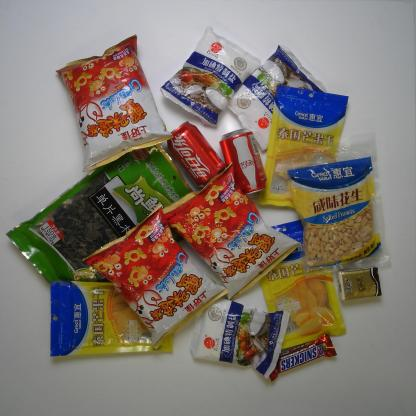Chocolate: (269, 334, 339, 384)
Dried Food: (3, 144, 193, 284)
Dried Fruit: (280, 126, 394, 279), (257, 84, 351, 209), (262, 218, 349, 348), (46, 276, 176, 360)
Drink: (166, 120, 226, 189), (218, 127, 267, 197)
Puffed Food: (82, 201, 230, 351), (162, 160, 302, 302), (51, 32, 176, 175)
Seasoner: (158, 23, 262, 127), (230, 42, 326, 153), (188, 300, 292, 381)
Tissue: (334, 266, 384, 304)
